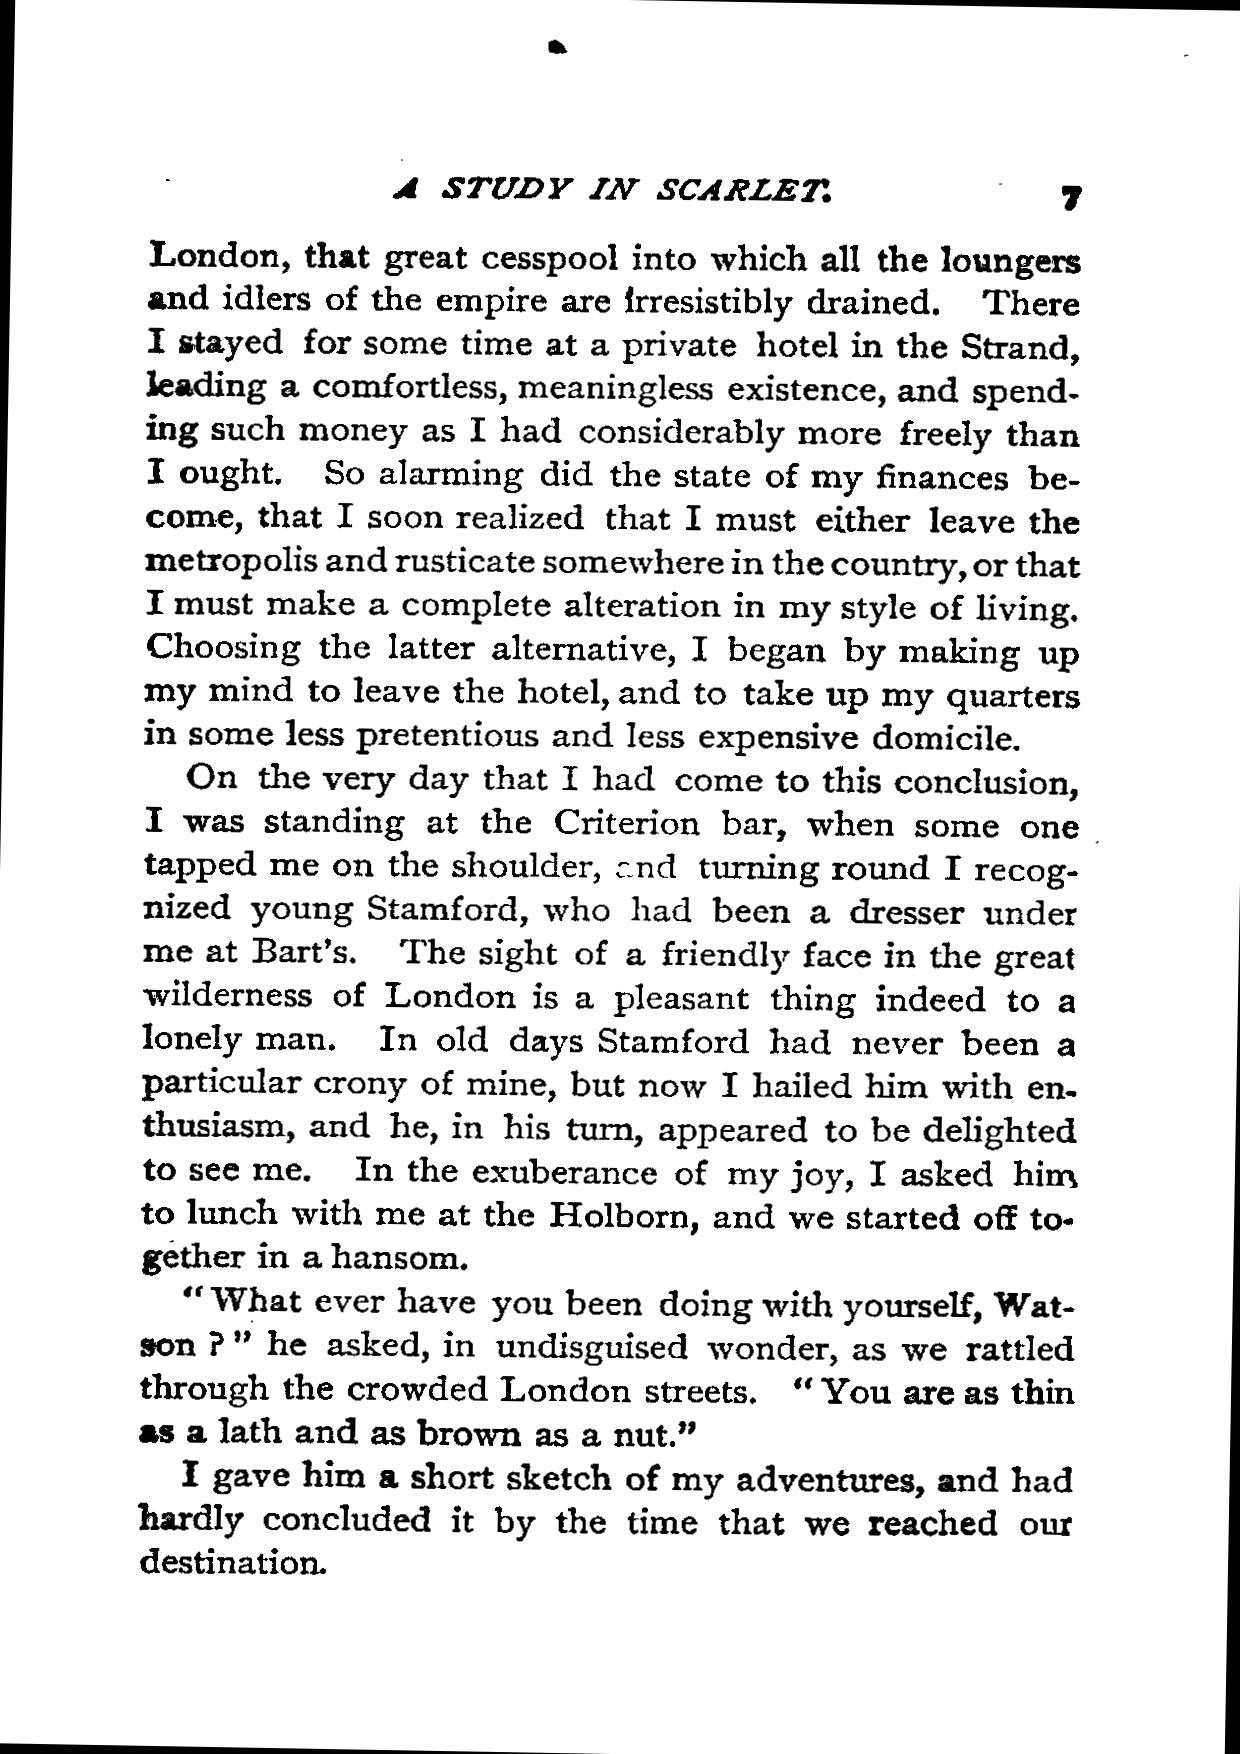content: (138, 231, 1088, 1580)
content_chapter: (386, 169, 835, 208)
content_pagenumber: (1051, 178, 1084, 219)
